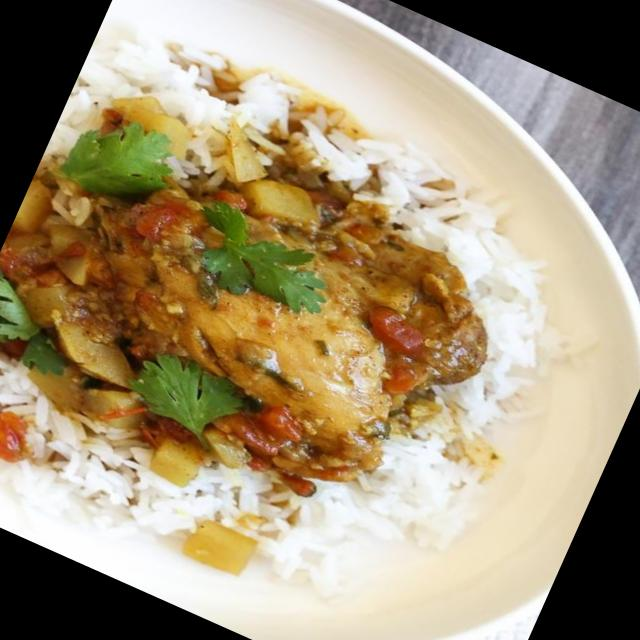chicken: (7, 101, 476, 528)
